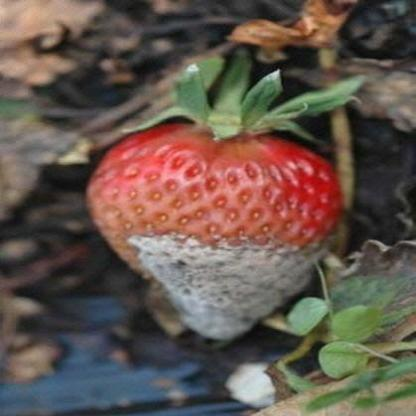Strawberry_Gray_Mold: (104, 226, 340, 340)
